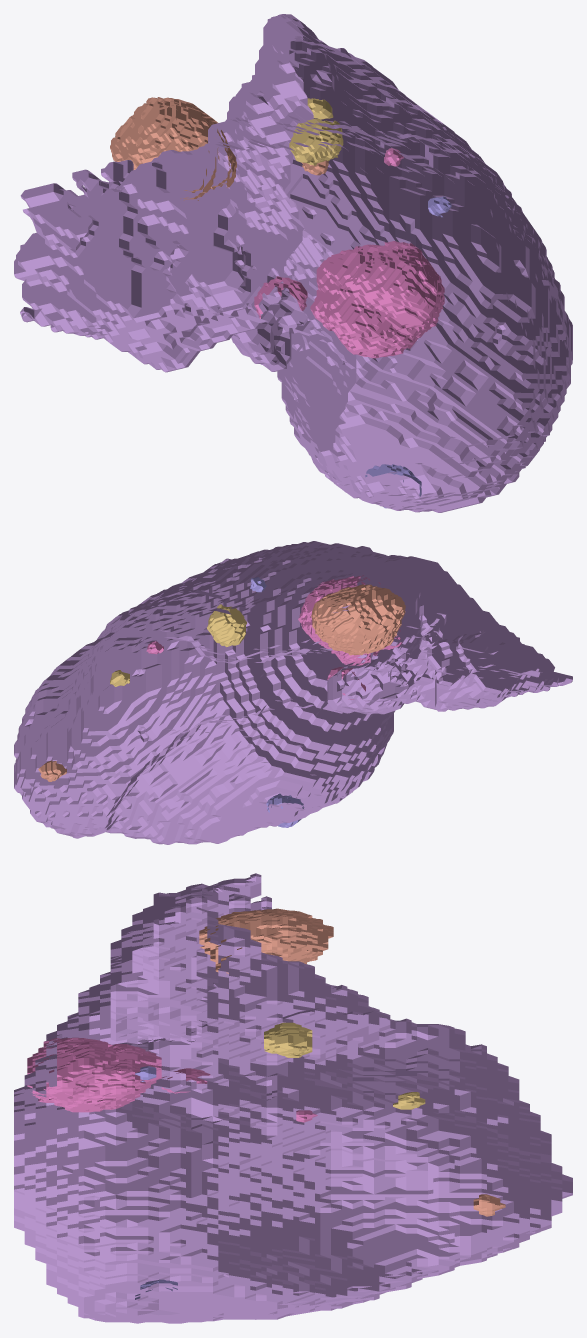
File: mri_liver_core.glb
3 renders of one model, top to bottom at view 1: azimuth 30°, elevation 25°; view 2: azimuth 150°, elevation 25°; view 3: azimuth 270°, elevation 25°, orthographic. The views are drawn at different scales.
Parts seen in each view (by area): view 1: Liver_Shell, Lesion_H01, Lesion_H02, Lesion_H03, Lesion_H05; view 2: Liver_Shell, Lesion_H02, Lesion_H01, Lesion_H03, Lesion_H06, Lesion_H04; view 3: Liver_Shell, Lesion_H01, Lesion_H02, Lesion_H03.
Boxes of the visible parts, x1,y1,x2,y2 form: Liver_Shell: (14,14,572,512); Lesion_H01: (310,241,444,358); Lesion_H02: (110,97,236,200); Lesion_H03: (289,118,343,165); Lesion_H05: (254,276,307,318); Liver_Shell: (14,541,572,844); Lesion_H02: (311,584,405,655); Lesion_H01: (298,575,402,665); Lesion_H03: (207,604,247,646); Lesion_H06: (38,760,66,781); Lesion_H04: (266,793,304,827); Liver_Shell: (14,873,572,1323); Lesion_H01: (27,1037,161,1112); Lesion_H02: (199,908,333,973); Lesion_H03: (264,1022,312,1057).
Size of the model in its own units: 202 by 139 by 208.
